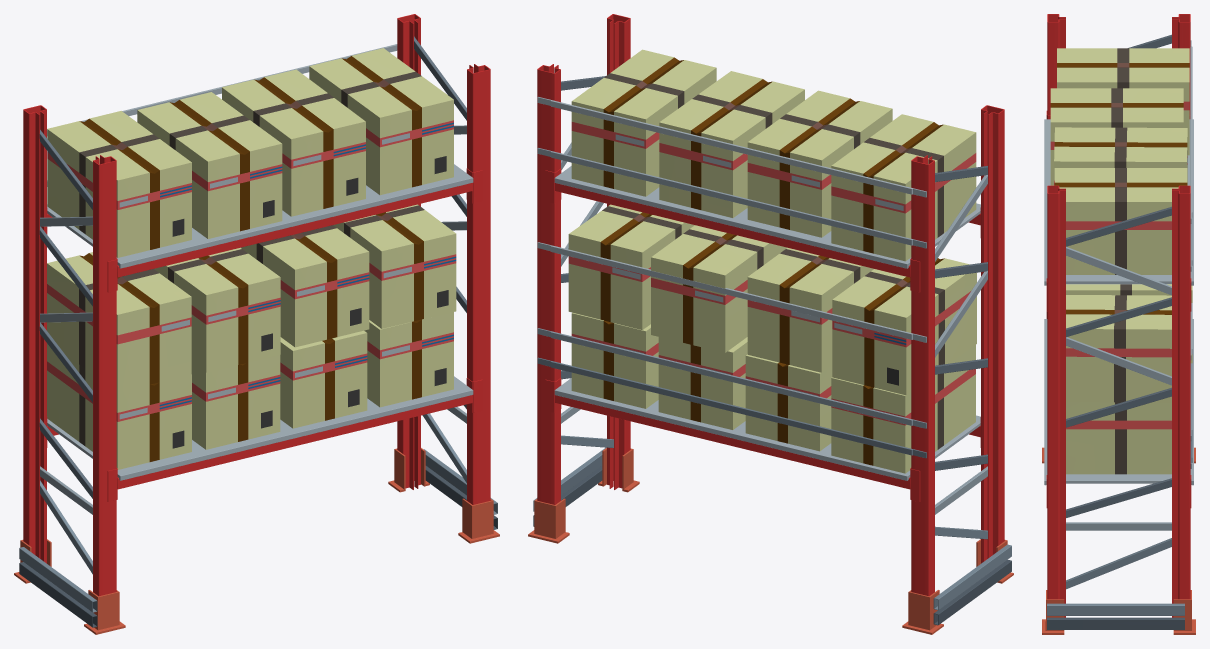
Rendered from SM_ShelfBoxesx1_Red_B.fbx.
3 renders of one model, left to right at view 1: azimuth 30°, elevation 25°; view 2: azimuth 150°, elevation 25°; view 3: azimuth 270°, elevation 25°, orthographic. The views are drawn at different scales.
Parts seen in each view (by area): view 1: SM_ShelfBoxesx1_Red_B; view 2: SM_ShelfBoxesx1_Red_B; view 3: SM_ShelfBoxesx1_Red_B.
Part boxes in pixels (bbox=[...]): SM_ShelfBoxesx1_Red_B: bbox=[14, 14, 499, 634]; SM_ShelfBoxesx1_Red_B: bbox=[528, 14, 1013, 634]; SM_ShelfBoxesx1_Red_B: bbox=[1042, 14, 1195, 634].
Bounding box in the file's own units: 336 × 370 × 118.
